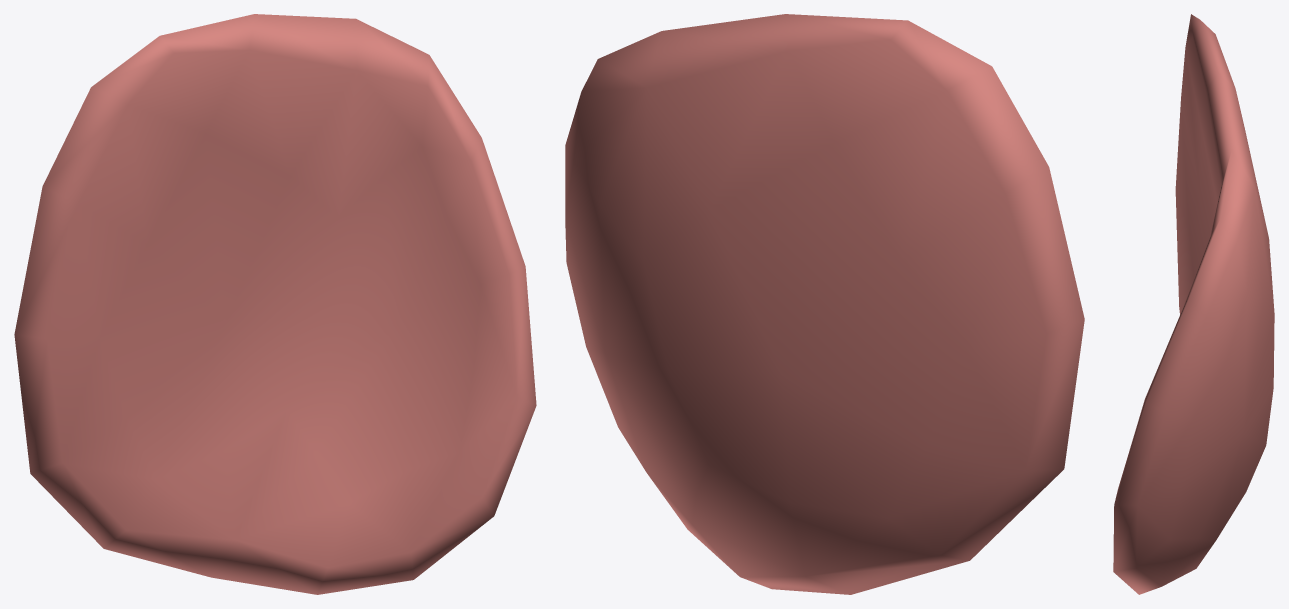
The picture shows the model from 3 angles, left to right: view 1: azimuth 30°, elevation 25°; view 2: azimuth 150°, elevation 25°; view 3: azimuth 270°, elevation 25°; orthographic projection. The views are drawn at different scales.
Parts seen in each view (by area): view 1: ZA_a112be6cc14a45c9; view 2: ZA_a112be6cc14a45c9; view 3: ZA_a112be6cc14a45c9.
Boxes of the visible parts, x1,y1,x2,y2 form: ZA_a112be6cc14a45c9: [14, 14, 536, 594]; ZA_a112be6cc14a45c9: [565, 14, 1084, 594]; ZA_a112be6cc14a45c9: [1113, 14, 1274, 594].
Size of the model in its own units: 0.00517 by 0.00582 by 0.00171.
